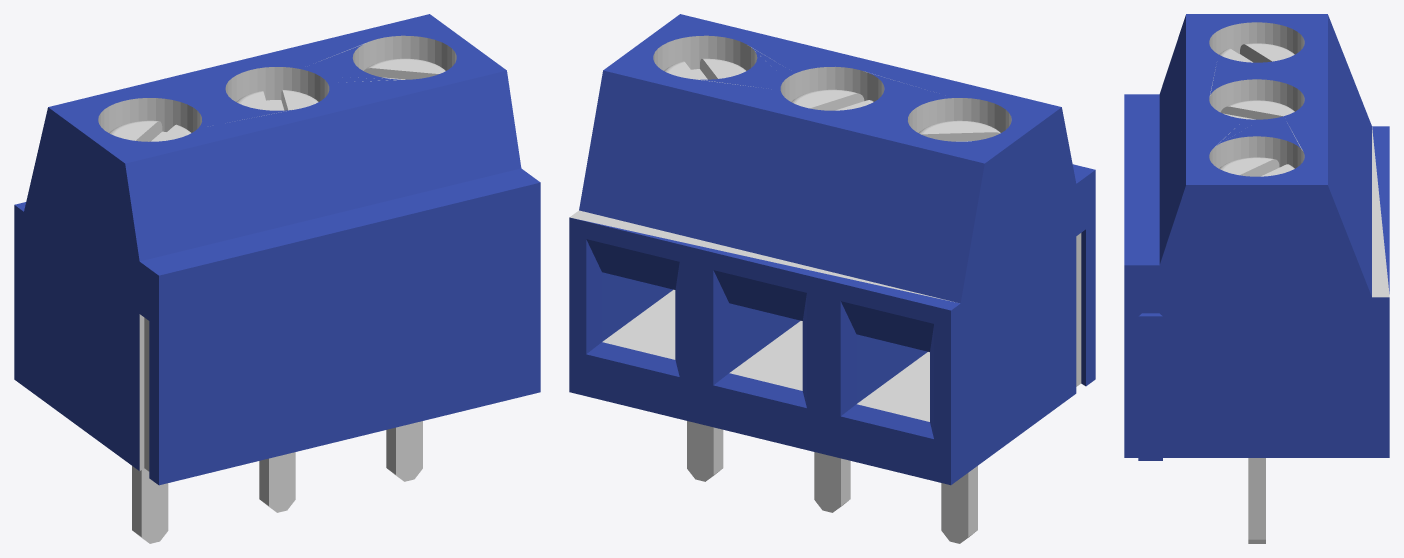
File: terminal.fbx
3 views of the same model, side by side, from view 1: azimuth 30°, elevation 25°; view 2: azimuth 150°, elevation 25°; view 3: azimuth 270°, elevation 25° (orthographic). The views are drawn at different scales.
Visible parts, largest first — view 1: User Library-ARK3 3v81; view 2: User Library-ARK3 3v81; view 3: User Library-ARK3 3v81.
Part boxes in pixels (x1,y1,x2,y2): User Library-ARK3 3v81: (14, 14, 540, 543); User Library-ARK3 3v81: (569, 14, 1095, 543); User Library-ARK3 3v81: (1124, 14, 1389, 543).
Bounding box in the file's own units: 1163 × 1200 × 750.
